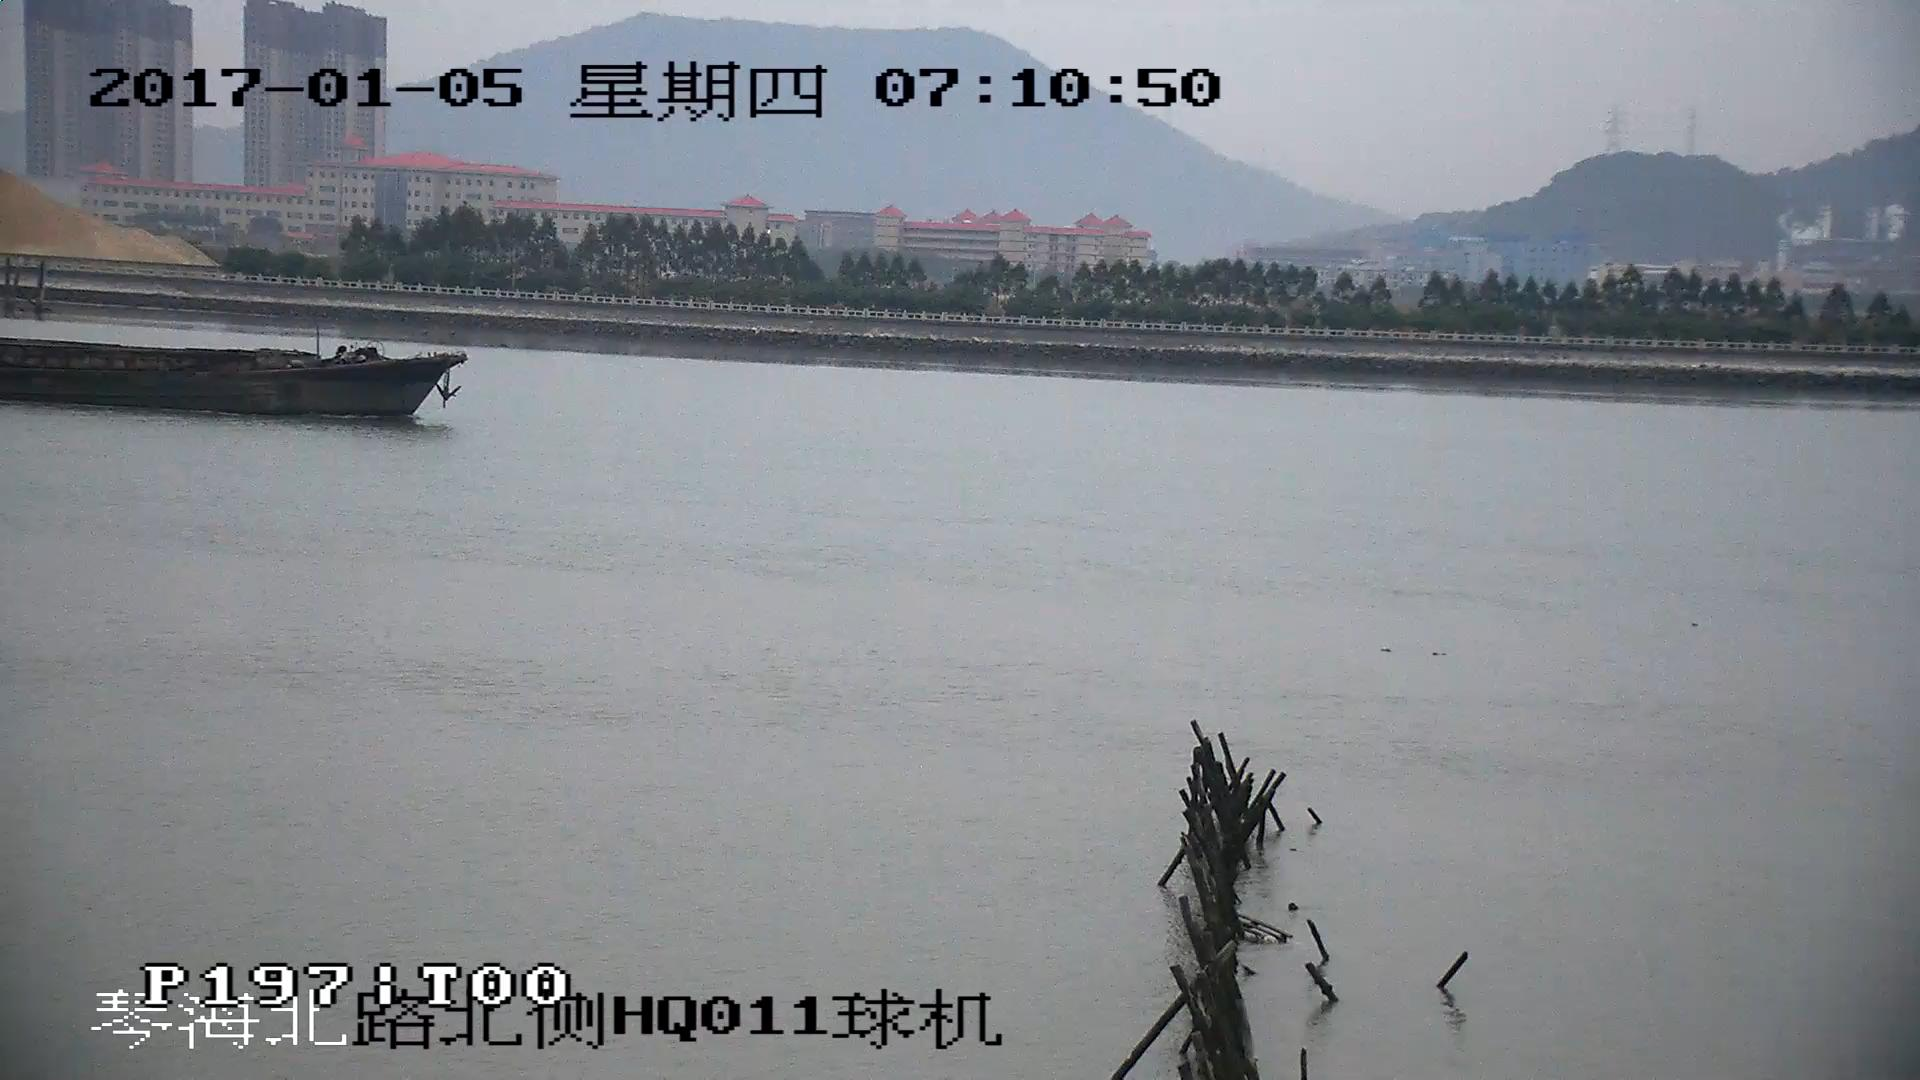bulk cargo carrier: (1, 339, 463, 415)
